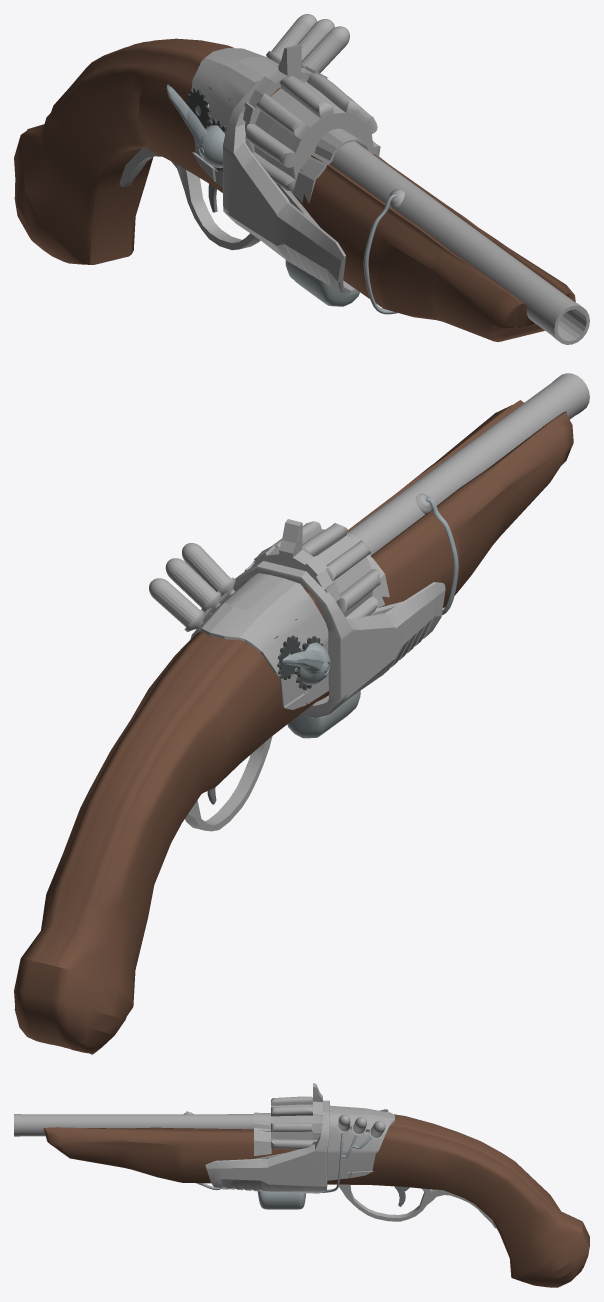
The model's file is Unwrapped Pistol gun.fbx.
The picture shows the model from 3 angles, top to bottom: view 1: azimuth 30°, elevation 25°; view 2: azimuth 150°, elevation 25°; view 3: azimuth 270°, elevation 25°; orthographic projection. The views are drawn at different scales.
Parts seen in each view (by area): view 1: Base1, pCylinder2, Base_Holder1, pCylinder6, Trigger_Holder2, pCube11, pCube12, pCylinder7, pCube9, pSphere2, pSphere4, pSphere5 (+2 smaller); view 2: Base1, Base_Holder1, pCylinder2, Trigger_Holder2, pCylinder6, pCylinder7, pCube11, pCube12, pSphere2, pSphere5, pSphere3, pSphere4; view 3: Base1, Base_Holder1, pCylinder2, Trigger_Holder2, pCylinder6, pCube11, pCube12, pCube9, pCylinder7.
Part boxes in pixels (x1,y1,x2,y2): Base1: [14, 38, 575, 342]; pCylinder2: [330, 141, 589, 344]; Base_Holder1: [223, 79, 359, 295]; pCylinder6: [245, 74, 380, 192]; Trigger_Holder2: [191, 48, 319, 226]; pCube11: [119, 148, 260, 250]; pCube12: [285, 194, 397, 314]; pCylinder7: [243, 44, 327, 152]; pCube9: [292, 128, 386, 203]; pSphere2: [166, 84, 224, 167]; pSphere4: [301, 26, 349, 72]; pSphere5: [271, 14, 317, 57]; Base1: [14, 400, 573, 1054]; Base_Holder1: [233, 561, 445, 717]; pCylinder2: [347, 373, 589, 555]; Trigger_Holder2: [190, 573, 403, 709]; pCylinder6: [253, 521, 380, 619]; pCylinder7: [244, 519, 340, 627]; pCube11: [185, 736, 272, 831]; pCube12: [287, 497, 458, 738]; pSphere2: [282, 642, 330, 685]; pSphere5: [149, 578, 200, 627]; pSphere3: [165, 558, 216, 607]; pSphere4: [182, 543, 230, 591]; Base1: [43, 1114, 589, 1287]; Base_Holder1: [205, 1100, 329, 1193]; pCylinder2: [14, 1114, 253, 1136]; Trigger_Holder2: [255, 1105, 394, 1180]; pCylinder6: [271, 1096, 313, 1149]; pCube11: [339, 1184, 496, 1228]; pCube12: [186, 1111, 343, 1209]; pCube9: [254, 1112, 271, 1155]; pCylinder7: [313, 1083, 322, 1144].
Size of the model in its own units: 3.67 by 8.71 by 23.14.
